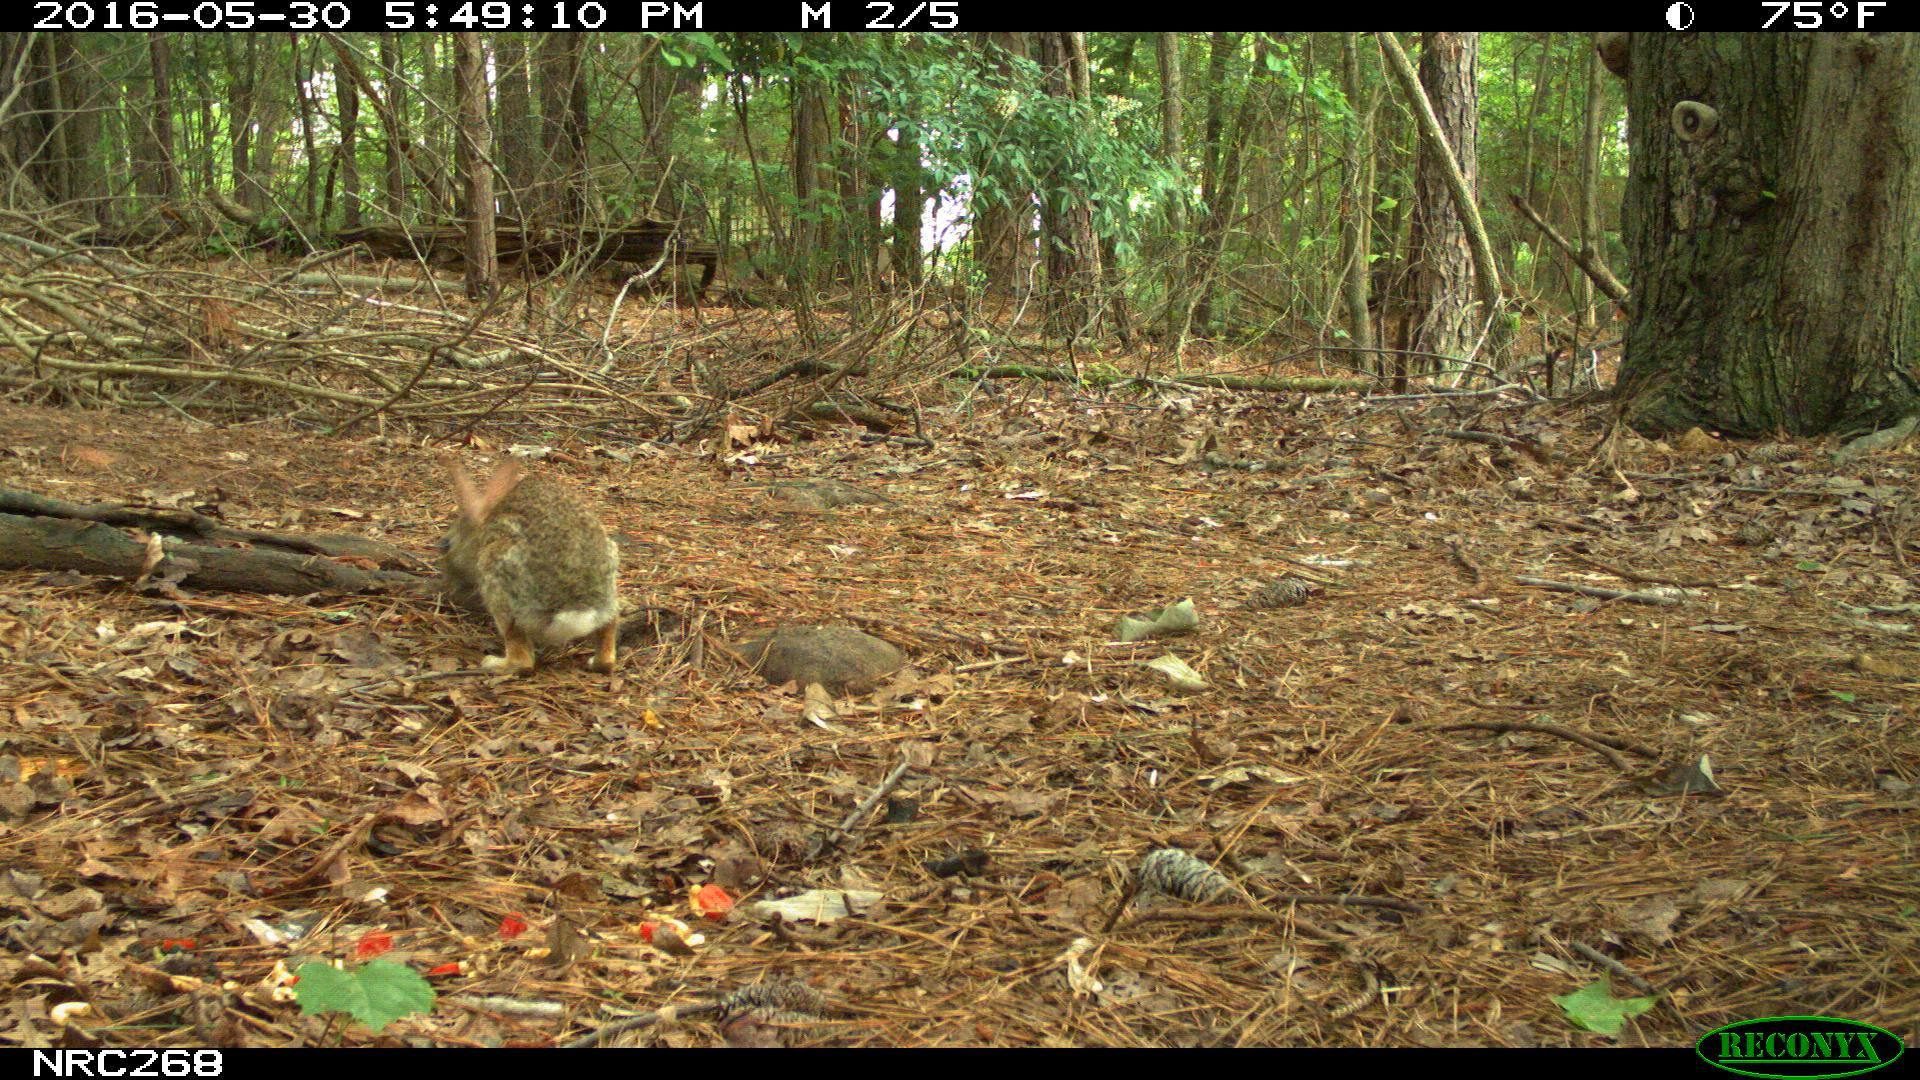Animal: (434, 451, 618, 676)
